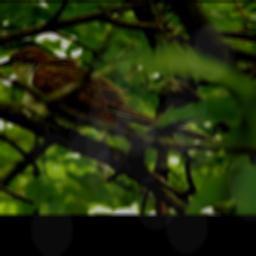Cuckoo: (0, 44, 218, 144)
